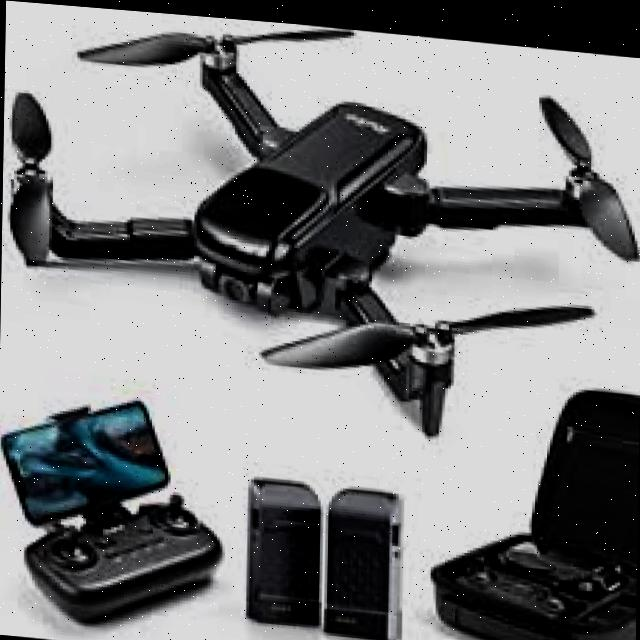drone: (5, 0, 640, 467)
